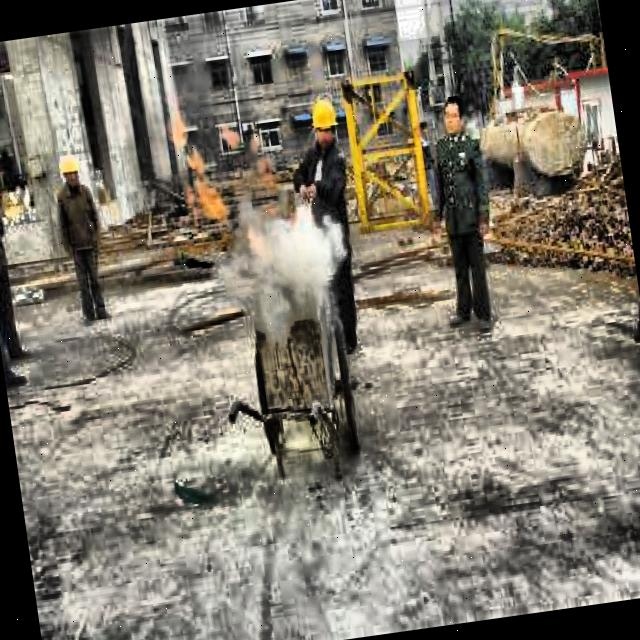helmet: (306, 92, 341, 150), (59, 150, 81, 188)
